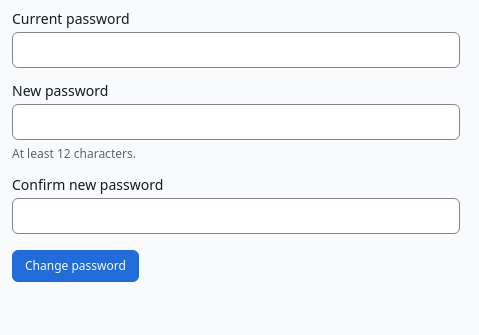
Test: ChangePasswordForm › shows the generic failure
The image size is (479, 335).
In the password field labelled "Current password": point(236, 50) [12,32,460,68], type "old-password-1"
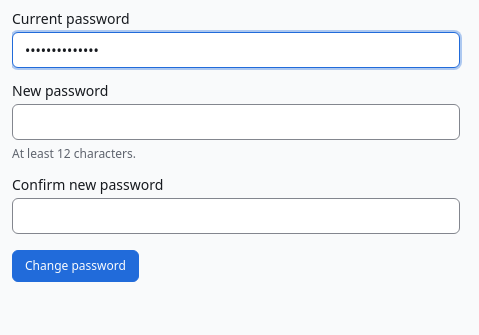
In the password field labelled "New password": point(236, 122) [12,104,460,140], type "new-password-123"
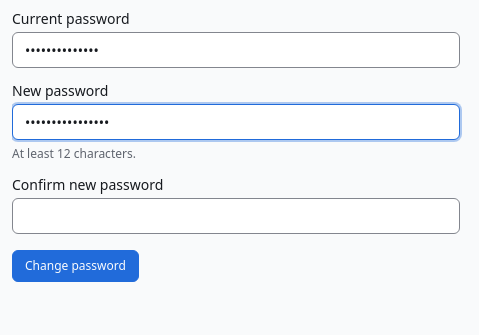
In the password field labelled "Confirm new password": point(236, 216) [12,198,460,234], type "new-password-123"
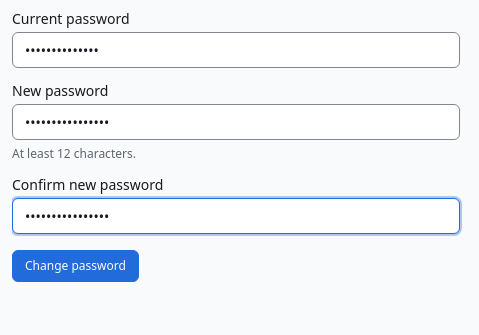
Click the button "Change password": point(75, 266) [12,250,139,282]
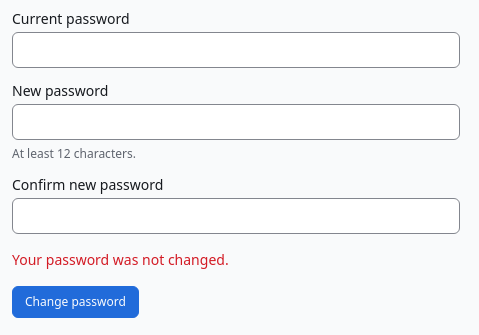
Result: the message reads "Your password was not changed." at [12,250,229,269]
